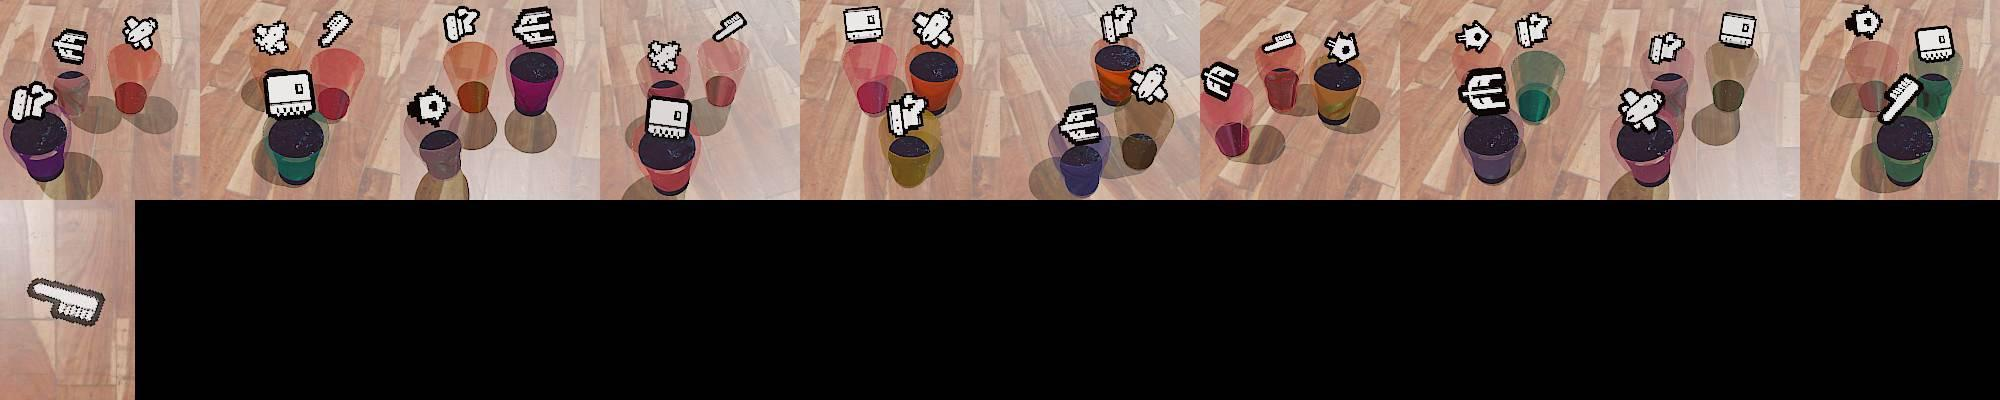icon: (28, 278, 108, 327), (263, 68, 316, 118), (1459, 66, 1510, 117), (1876, 71, 1922, 125), (645, 94, 691, 140), (1617, 87, 1663, 131), (406, 84, 453, 127), (1057, 101, 1102, 145), (886, 90, 929, 138), (8, 80, 56, 121), (511, 6, 557, 48), (1129, 62, 1171, 104), (911, 8, 954, 48), (843, 5, 884, 43), (441, 5, 481, 43), (1916, 25, 1955, 64), (1099, 3, 1136, 43), (1719, 11, 1758, 50), (1202, 61, 1237, 102), (1515, 11, 1552, 50), (251, 19, 290, 56), (316, 10, 352, 50), (51, 28, 88, 65), (122, 15, 158, 51), (1323, 29, 1358, 65), (645, 38, 681, 74), (1846, 5, 1881, 41), (1455, 19, 1492, 54), (1648, 31, 1684, 65), (713, 10, 746, 43), (1260, 29, 1296, 55)
